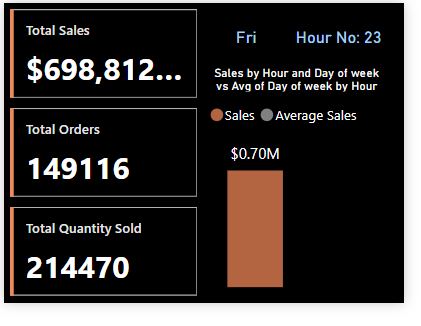

What the dashboard file says about the page in this screenshot:
{"tool":"powerbi","page":{"name":"Day and Hour Tooltip","canvas":[320,240],"ordinal":3},"visuals":[{"type":"cardVisual","fields":{"Data":["Key Measures.Total Sales","Key Measures.Total Orders","Key Measures.Total Quantity Sold"]},"box":[0,0,160,240],"z":0},{"type":"clusteredColumnChart","title":"Sales by Hour and Day of week vs Avg of Day of week by Hour","fields":{"Y":["Key Measures.Total Sales","Key Measures.CD Average Sales"]},"box":[160,50,149,183],"z":1000},{"type":"card","fields":{"Values":["Min(Dim_Date.ShortWeekdayName)"]},"box":[170,7,48,43],"z":2000},{"type":"card","fields":{"Values":["Dim_Time.Title for hour"]},"box":[226,7,84,43],"z":4000}]}

Visuals, with their boxes on the page's 320x240 design canvas (x1, y1, x2, y2). These are canvas units, not pixel positions in the 421x326 screenshot, which may show the page scaled, cropped or inside an application window:
cardVisual - Key Measures.Total Sales x Key Measures.Total Orders: box(0, 0, 160, 240)
"Sales by Hour and Day of week vs Avg of Day of week by Hour" clusteredColumnChart: box(160, 50, 309, 233)
card - Min(Dim_Date.ShortWeekdayName): box(170, 7, 218, 50)
card - Dim_Time.Title for hour: box(226, 7, 310, 50)
